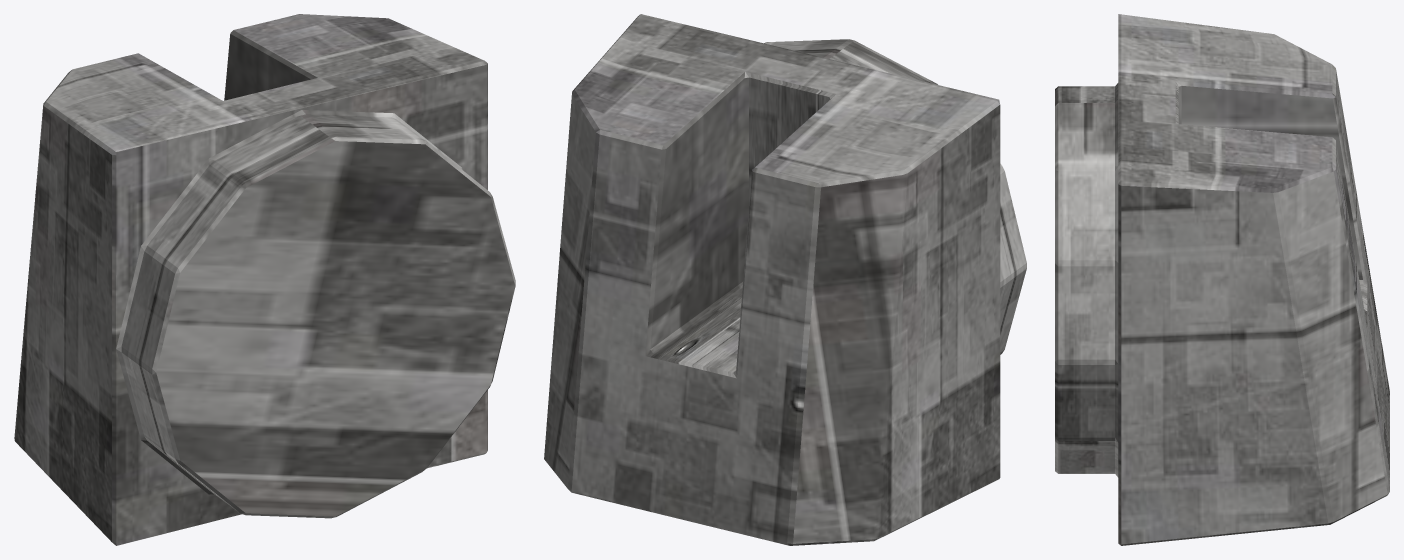
Rendered from rocket-tower-cannon-turret.fbx.
The picture shows the model from 3 angles, left to right: view 1: azimuth 30°, elevation 25°; view 2: azimuth 150°, elevation 25°; view 3: azimuth 270°, elevation 25°; orthographic projection. The views are drawn at different scales.
Parts seen in each view (by area): view 1: rocket-tower-cannon-turret; view 2: rocket-tower-cannon-turret; view 3: rocket-tower-cannon-turret.
Boxes of the visible parts, x1,y1,x2,y2 form: rocket-tower-cannon-turret: [14, 14, 515, 545]; rocket-tower-cannon-turret: [544, 14, 1026, 545]; rocket-tower-cannon-turret: [1055, 14, 1389, 545].
Size of the model in its own units: 160 by 160 by 133.
Materials: 1 (1 with a texture image).
